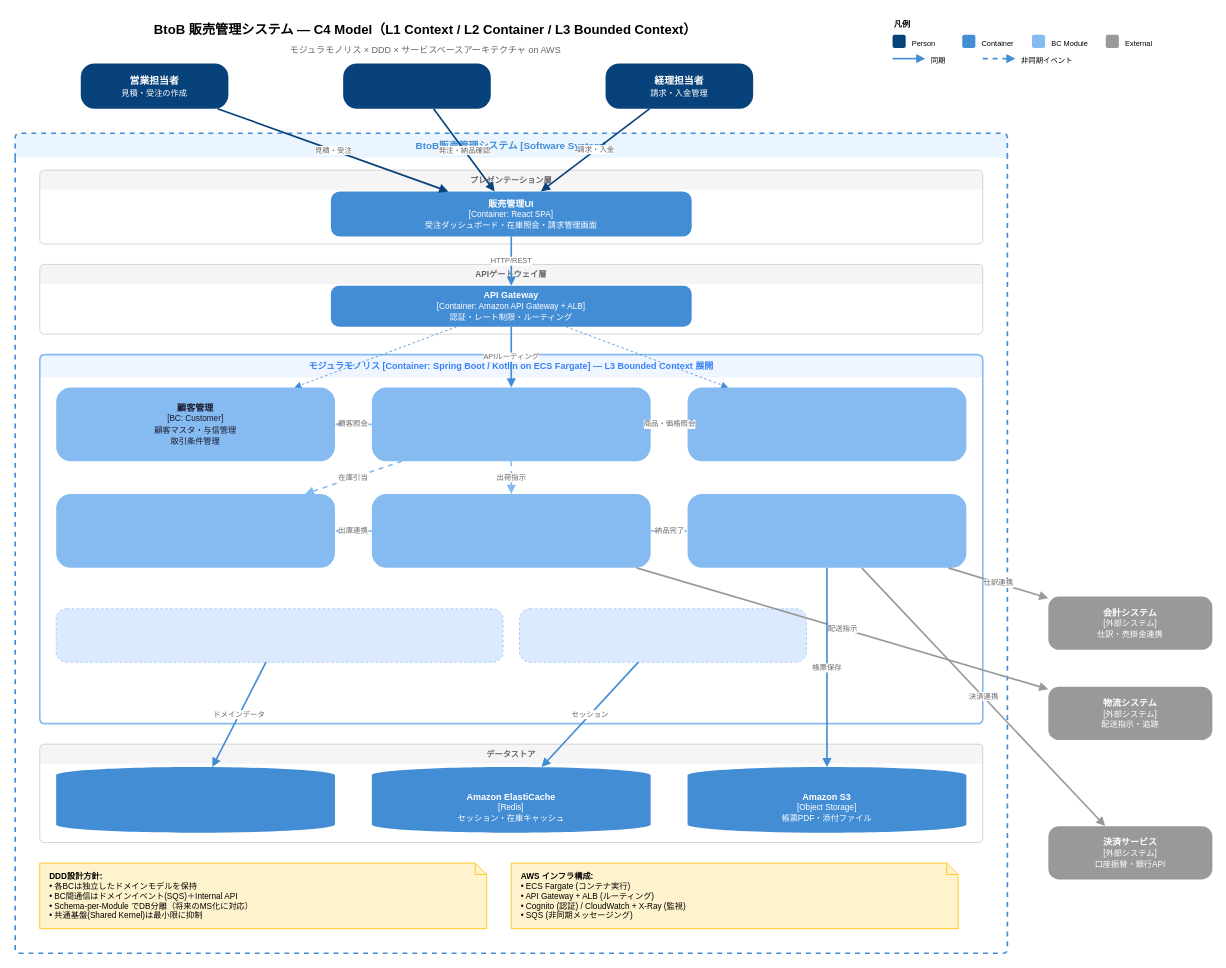
This 1226x968 diagram has some shape labels left out. Each missing label, with the centre of its shape:
"Amazon RDS [PostgreSQL] Schema-per-Module分離" belongs at pixel 195 799.
"モジュール間イベントバス [Shared Kernel: Amazon SQS] ドメインイベントの非同期伝搬・CQRS対応" belongs at pixel 279 635.
"共通基盤 [Shared Kernel: Cross-Cutting] 認証(Cognito)・認可・監査ログ" belongs at pixel 662 635.
"出荷管理 [BC: Shipping] 出荷指示・配送追跡 納品管理" belongs at pixel 510 530.
"受注管理 [BC: Order] 見積・受注登録・承認 受注ステータス管理" belongs at pixel 510 424.
"商品管理 [BC: Product] 商品マスタ・価格管理 カテゴリ・属性管理" belongs at pixel 826 424.
"在庫管理 [BC: Inventory] 在庫照会・引当管理 入出庫管理" belongs at pixel 195 530.
"請求管理 [BC: Billing] 請求書作成・入金管理 売掛金管理" belongs at pixel 826 530.
"顧客企業 (BtoB) 発注・納品確認" belongs at pixel 416 85.
